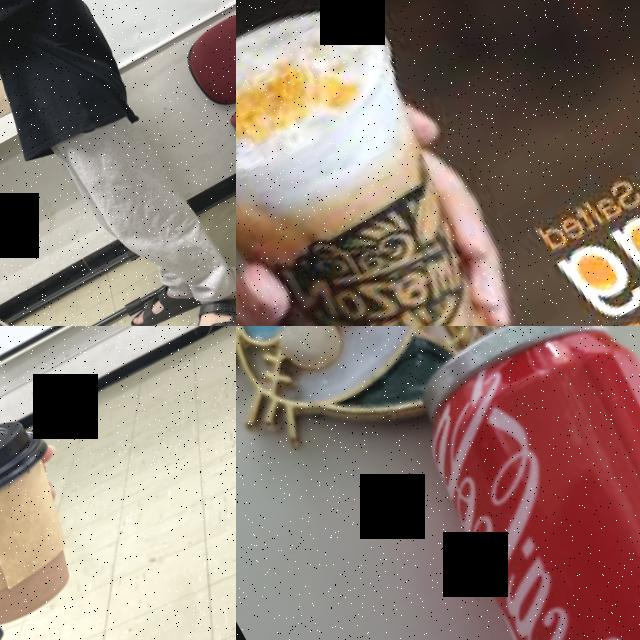can: (363, 326, 640, 640)
cup: (236, 0, 588, 326), (0, 402, 115, 640)
